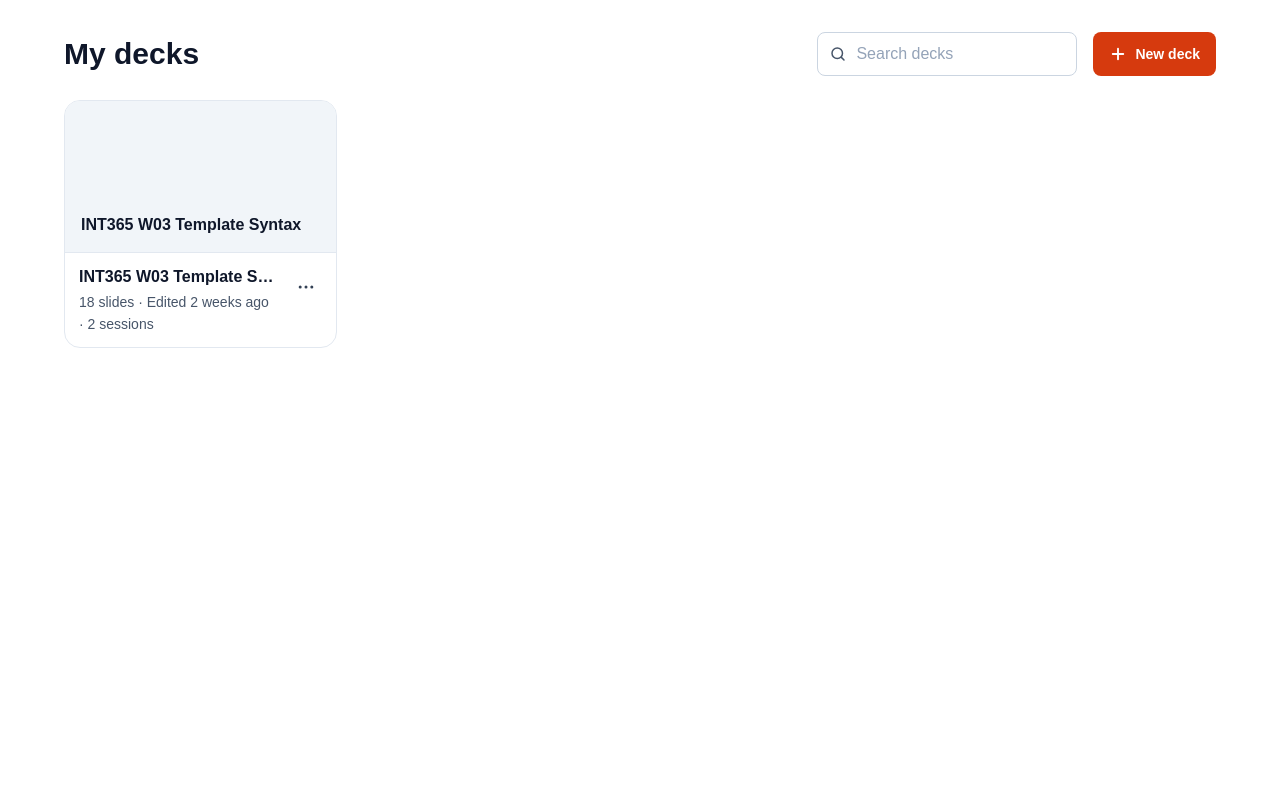
Test: DeckList › renames a deck
Expected: the link "INT365 W03 Template Syntax" is shown, x1=79 y1=265 x2=276 y2=289
Click the button named "Actions for INT365 W03 Template Syntax".
click(306, 287)  # box x1=284 y1=265 x2=328 y2=309
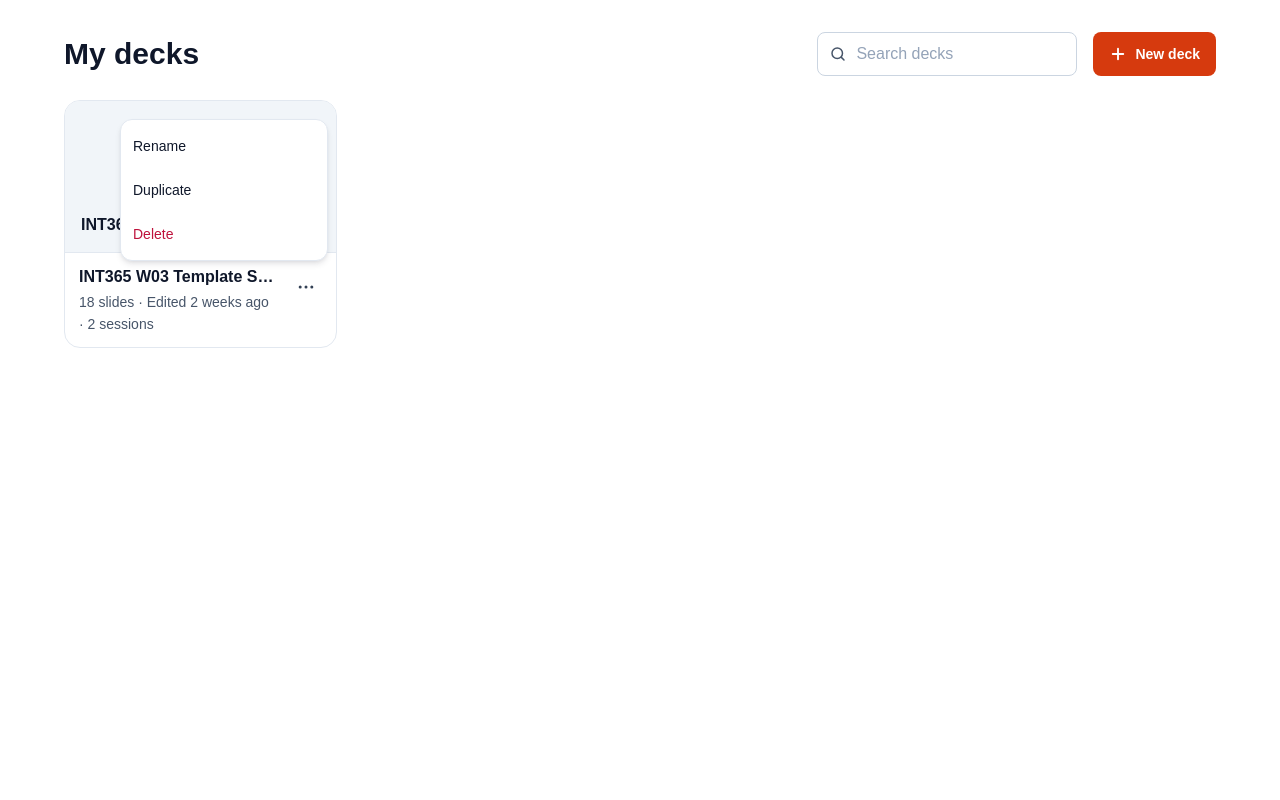
Click the button "Rename".
click(224, 146)  # box x1=121 y1=124 x2=327 y2=168
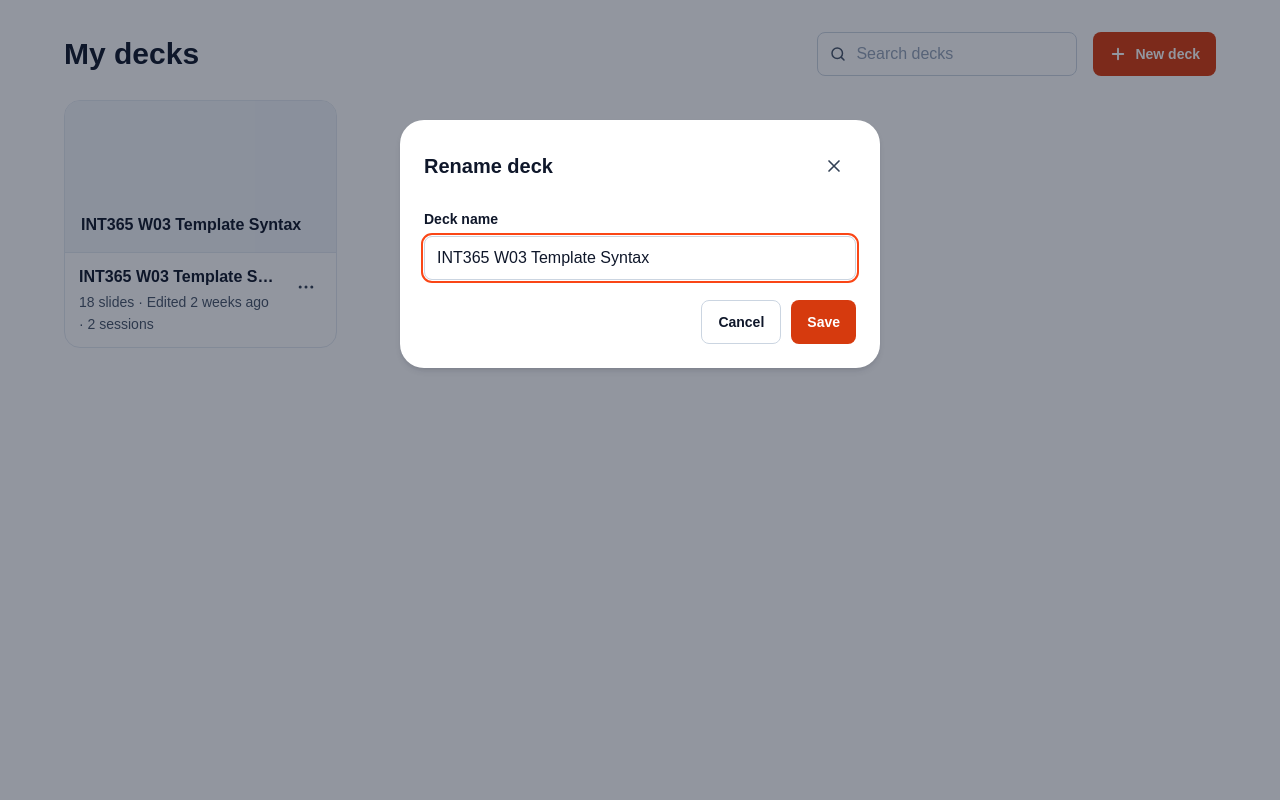
Expected: the field labelled "Deck name" holds "INT365 W03 Template Syntax"
Replace the text in the field labelled "Deck name" with "W03 Templates" at (640, 258), box x1=424 y1=236 x2=856 y2=280
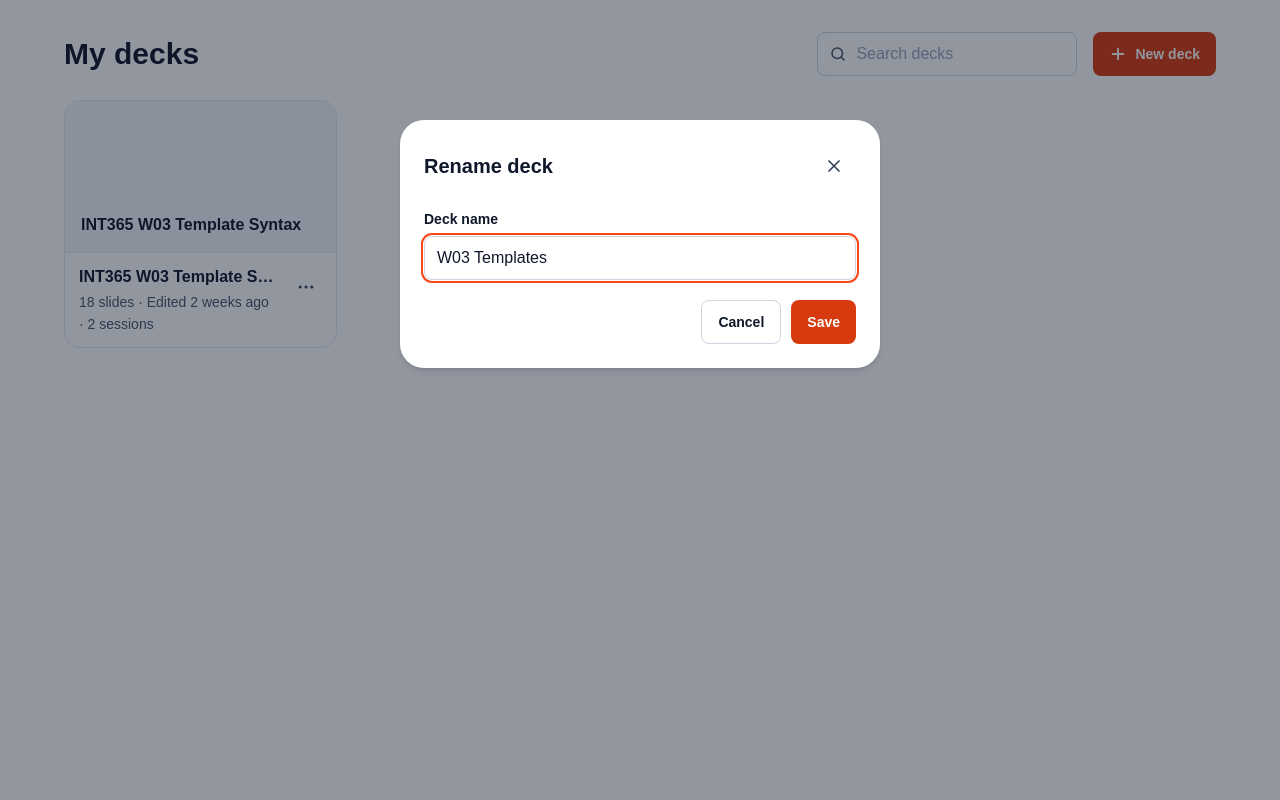
Click the button "Save".
click(824, 322)  # box x1=791 y1=300 x2=856 y2=344
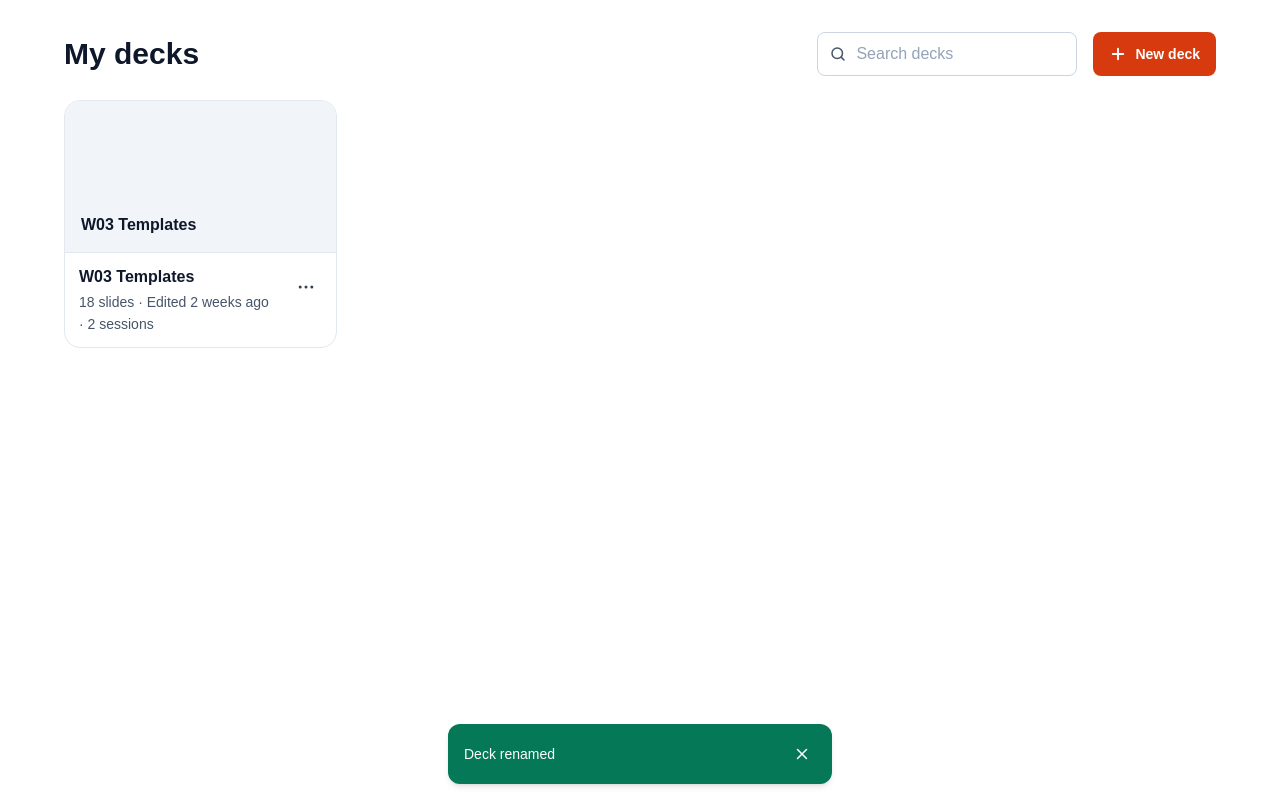
Expected: the link "W03 Templates" is shown, x1=79 y1=268 x2=194 y2=285
Expected: the dialog is gone
Expected: the text "Deck renamed" is shown, x1=464 y1=746 x2=555 y2=762
